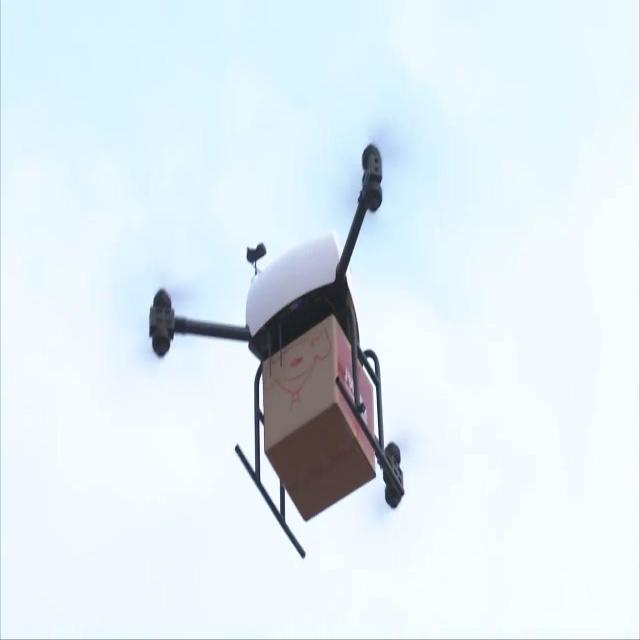drone: (149, 140, 406, 561)
